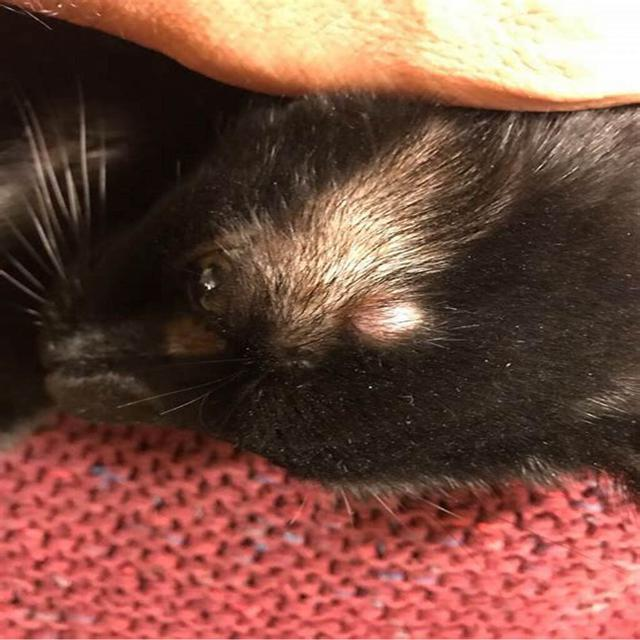lump_and_bump: (371, 295, 415, 342)
